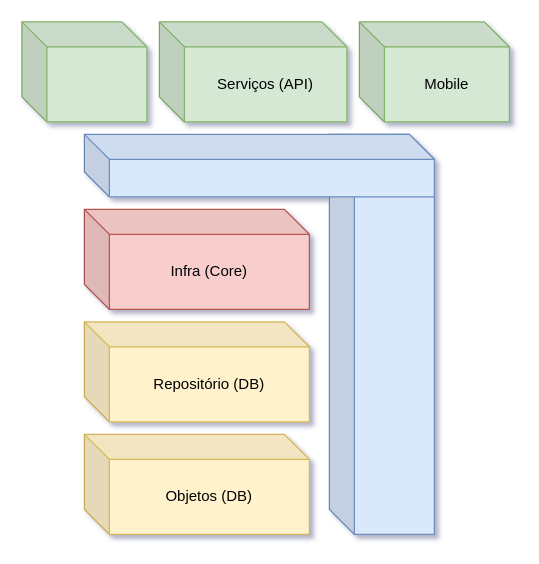
Image size: 539x564. Some labels were removed from this diagram. The centre of each missing label's shape, as x and y in pixels:
Identidade: the point at 381,333
Site: the point at 84,71
